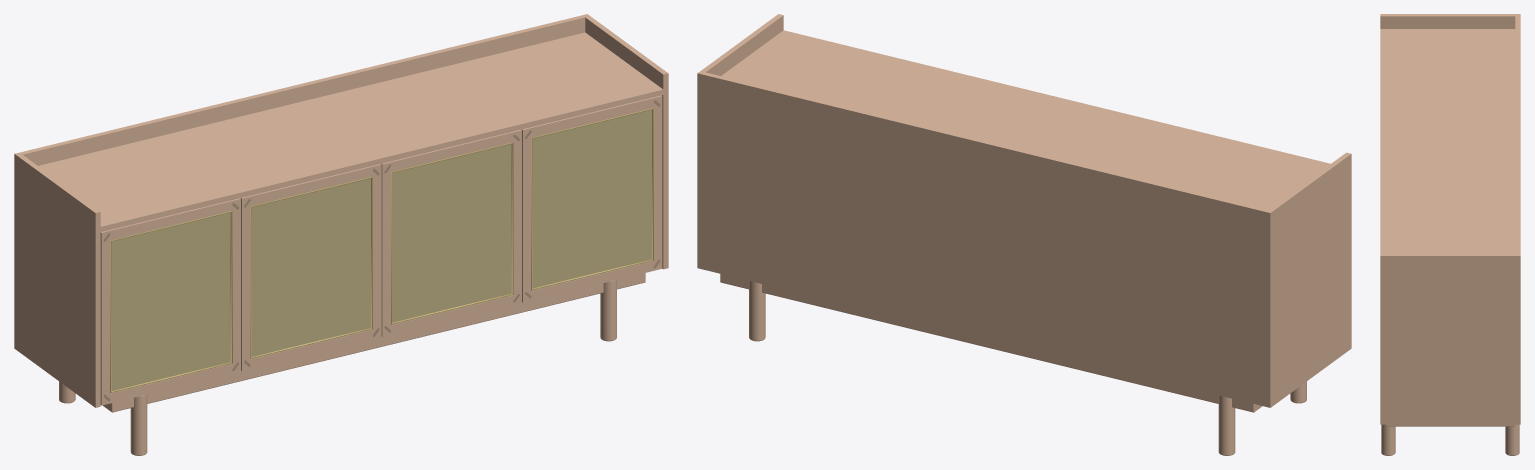
Rendered from buffet-moscato.glb.
The picture shows the model from 3 angles, left to right: view 1: azimuth 30°, elevation 25°; view 2: azimuth 150°, elevation 25°; view 3: azimuth 270°, elevation 25°; orthographic projection. The views are drawn at different scales.
Size of the model in its own units: 2 by 0.85 by 0.4901.
